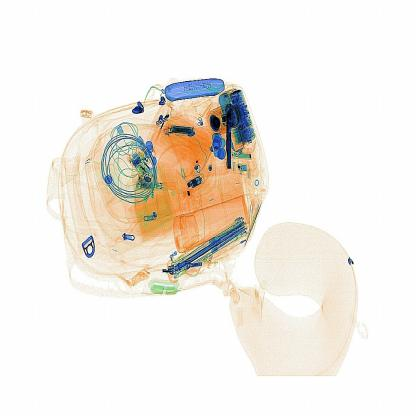pliers: (220, 101, 242, 177)
